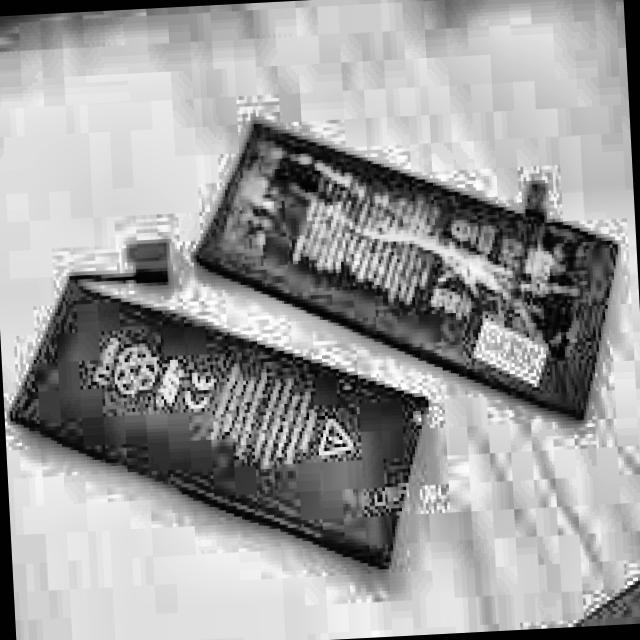Battery: (187, 99, 624, 436), (0, 262, 438, 592)
